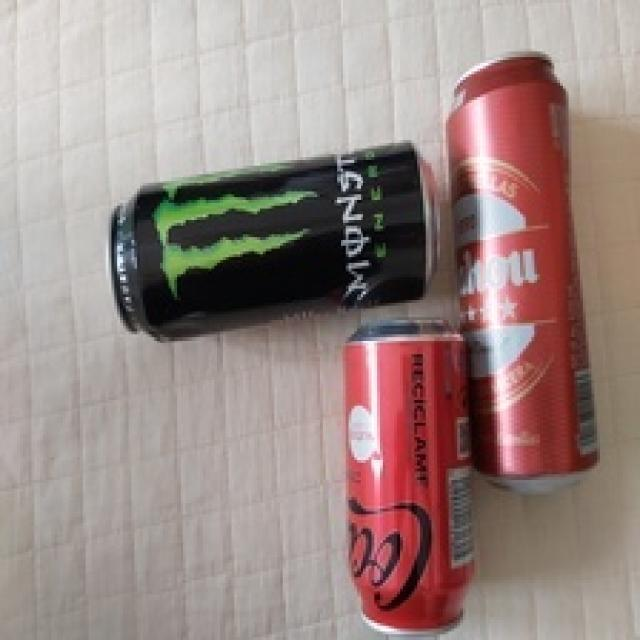recyclable: (442, 49, 602, 500), (105, 140, 435, 342), (343, 321, 480, 640)
